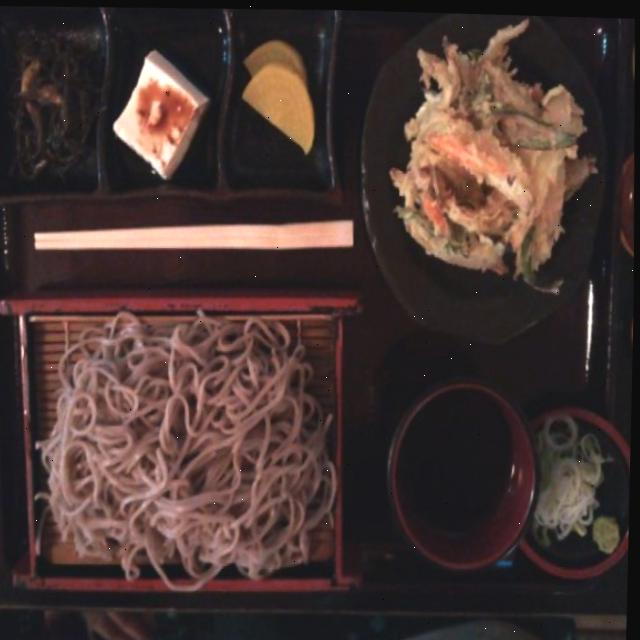蔬菜料理: (354, 8, 622, 376)
面条主食: (0, 277, 373, 602)
